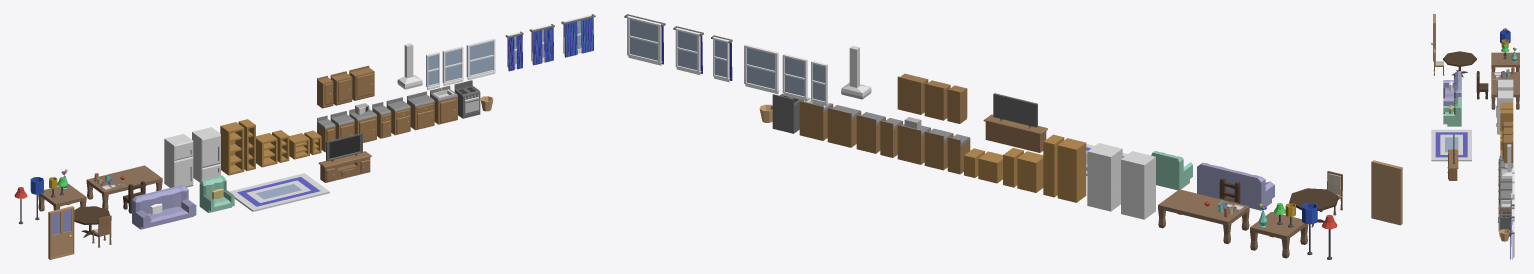
File: LowPolyAssetPack001.fbx
The picture shows the model from 3 angles, left to right: view 1: azimuth 30°, elevation 25°; view 2: azimuth 150°, elevation 25°; view 3: azimuth 270°, elevation 25°; orthographic projection. The views are drawn at different scales.
Visible parts, largest first — view 1: Carpet, Couch, Fridge, Fridge2, LargeTable, Cube, ShelfFatTall, WindowWithCurtainLarge, Entertainment Center, WindowLarge, ComfyChair, CabinetWithDrawerLarge (+24 smaller); view 2: Fridge, Fridge2, Couch, LargeTable, Cube, ShelfFatTall, WindowWithCurtainLarge, Entertainment Center, WindowLarge, SmallTable, WindowWithCurtainMedium, CabinetWithDrawerLarge (+21 smaller); view 3: Carpet, LargeTable, Couch, RoundTable, SmallTable, ComfyChair, Fridge2, Entertainment Center, TopCabinetLarge, StoveHood, Stove, WoodenChair (+17 smaller).
Boxes of the visible parts, x1=… form: Carpet: x1=229, y1=173, x2=329, y2=211; Couch: x1=132, y1=185, x2=196, y2=229; Fridge: x1=164, y1=134, x2=193, y2=187; Fridge2: x1=192, y1=127, x2=220, y2=182; LargeTable: x1=86, y1=165, x2=162, y2=209; Cube: x1=48, y1=206, x2=74, y2=259; ShelfFatTall: x1=220, y1=122, x2=244, y2=175; WindowWithCurtainLarge: x1=561, y1=14, x2=595, y2=57; Entertainment Center: x1=318, y1=151, x2=371, y2=182; WindowLarge: x1=466, y1=38, x2=495, y2=80; ComfyChair: x1=199, y1=175, x2=234, y2=212; CabinetWithDrawerLarge: x1=407, y1=91, x2=434, y2=130; Fridge: x1=1121, y1=151, x2=1155, y2=219; Fridge2: x1=1087, y1=143, x2=1122, y2=211; Couch: x1=1197, y1=162, x2=1274, y2=210; LargeTable: x1=1158, y1=189, x2=1249, y2=243; Cube: x1=1371, y1=160, x2=1402, y2=225; ShelfFatTall: x1=1057, y1=138, x2=1086, y2=202; WindowWithCurtainLarge: x1=624, y1=14, x2=665, y2=65; Entertainment Center: x1=983, y1=114, x2=1047, y2=152; WindowLarge: x1=744, y1=44, x2=779, y2=94; SmallTable: x1=1250, y1=212, x2=1308, y2=258; WindowWithCurtainMedium: x1=673, y1=26, x2=703, y2=74; CabinetWithDrawerLarge: x1=827, y1=105, x2=861, y2=147; Carpet: x1=1431, y1=129, x2=1471, y2=161; LargeTable: x1=1491, y1=72, x2=1519, y2=109; Couch: x1=1443, y1=71, x2=1461, y2=105; RoundTable: x1=1443, y1=51, x2=1476, y2=77; SmallTable: x1=1491, y1=52, x2=1519, y2=71; ComfyChair: x1=1443, y1=97, x2=1461, y2=126; Fridge2: x1=1496, y1=90, x2=1513, y2=134; Entertainment Center: x1=1447, y1=149, x2=1458, y2=180; TopCabinetLarge: x1=1502, y1=133, x2=1513, y2=162; StoveHood: x1=1501, y1=144, x2=1512, y2=180; Stove: x1=1498, y1=211, x2=1512, y2=236; WoodenChair: x1=1476, y1=71, x2=1488, y2=99.
Bounding box in the file's own units: 3876 × 510 × 624.
